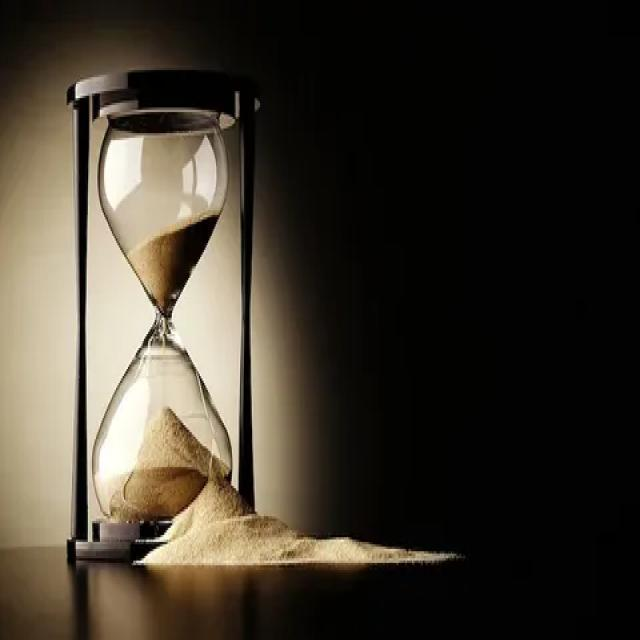clock: (60, 58, 263, 575)
